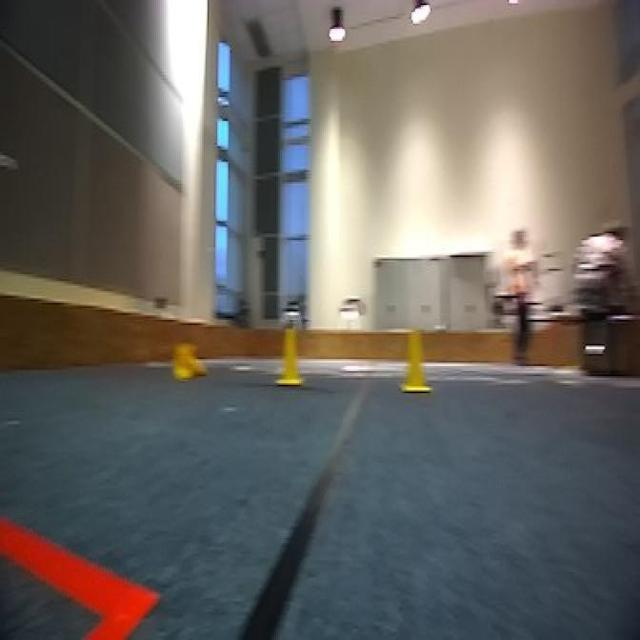frc_cone: (401, 330, 430, 397), (276, 323, 305, 388), (172, 340, 210, 383)
